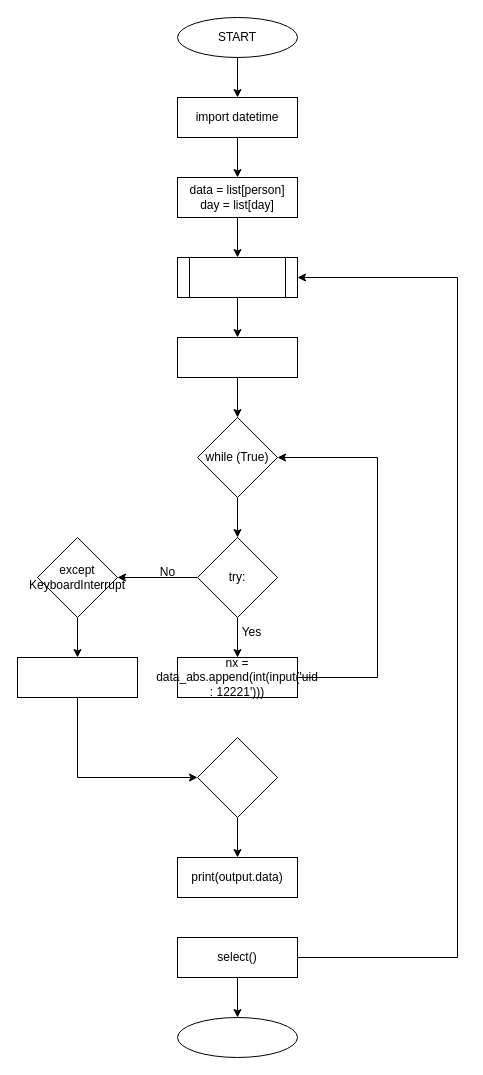
This 483x1075 diagram has some shape labels left out. Each missing label, with the centre of its shape:
"break" goes at pixel 77 677.
"data_abs = []" goes at pixel 237 357.
"END" goes at pixel 237 1037.
"for i in data_abs:" goes at pixel 237 777.
"func select()" goes at pixel 237 277.
